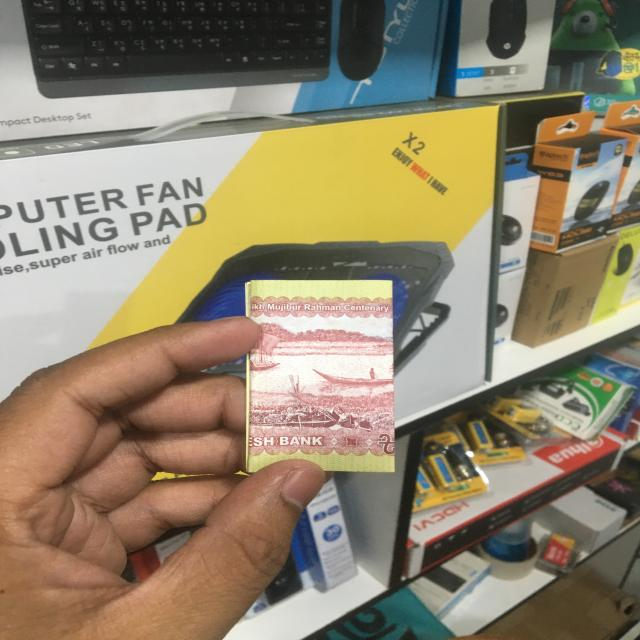Taka: (252, 277, 395, 470)
